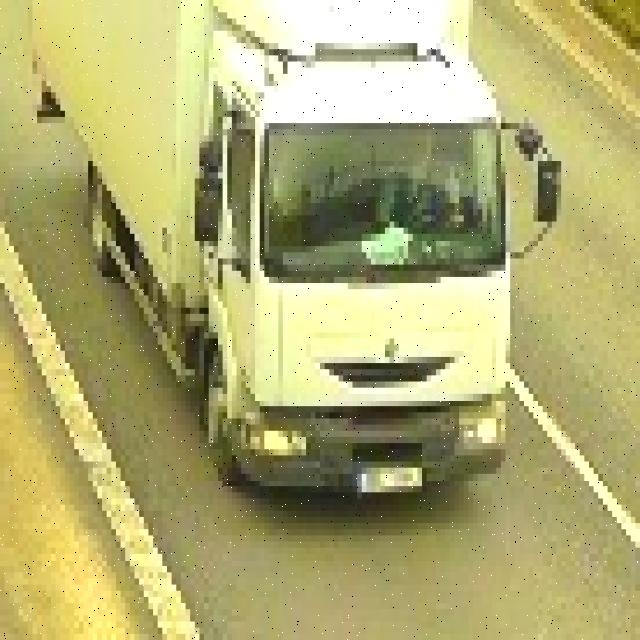truck: (42, 0, 562, 498)
